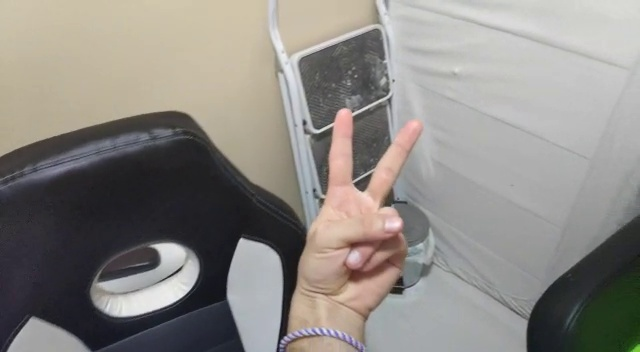Peace: (296, 106, 427, 293)
